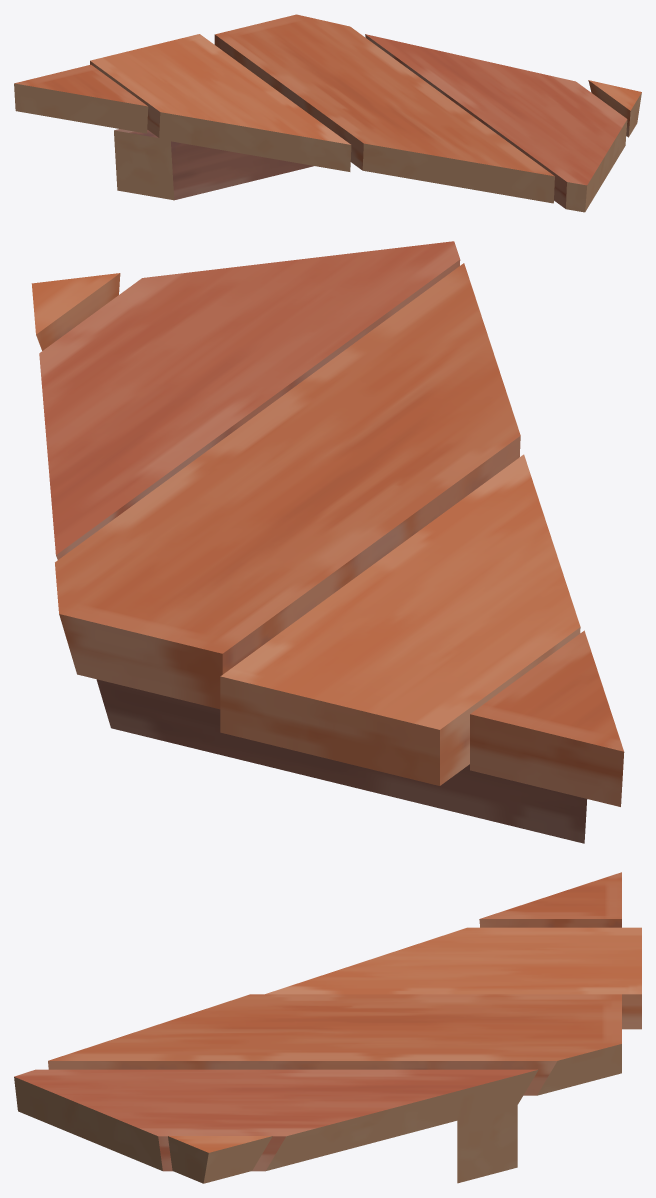
The model's file is plank_s04.fbx.
The picture shows the model from 3 angles, top to bottom: view 1: azimuth 30°, elevation 25°; view 2: azimuth 150°, elevation 25°; view 3: azimuth 270°, elevation 25°; orthographic projection. The views are drawn at different scales.
Parts seen in each view (by area): view 1: plank_s04; view 2: plank_s04; view 3: plank_s04.
Boxes of the visible parts, <box> form: plank_s04: <box>14,14,641,212</box>; plank_s04: <box>31,241,624,843</box>; plank_s04: <box>14,872,641,1183</box>.
Bounding box in the file's own units: 3.96 × 0.75 × 3.74.
